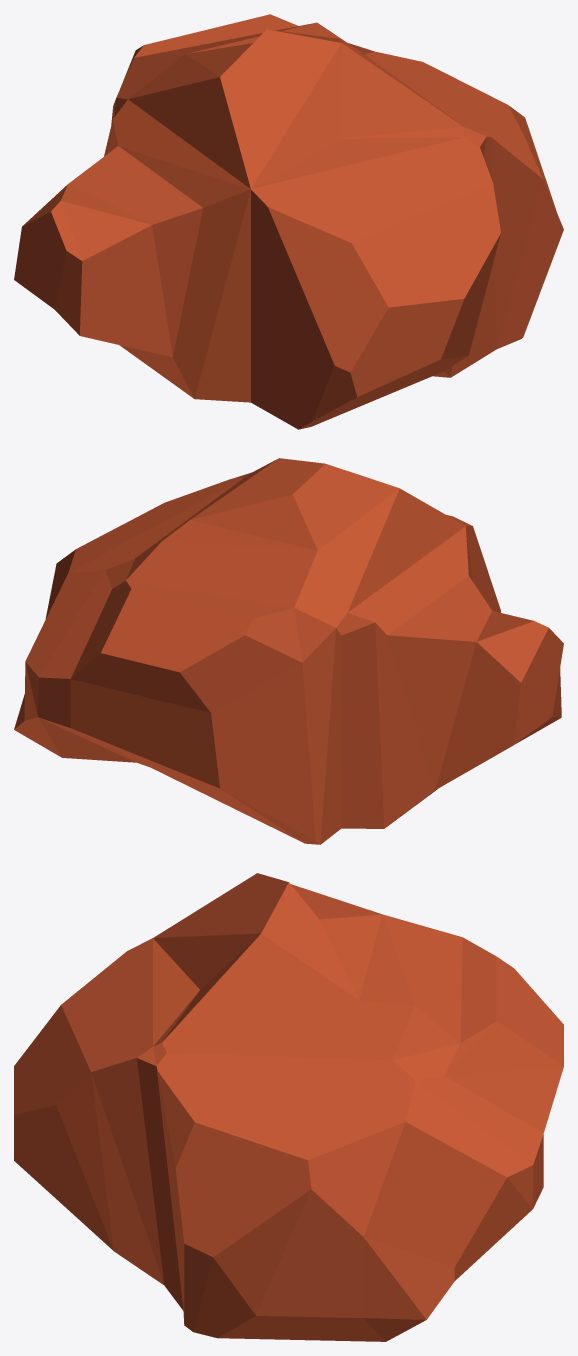
The model's file is Rock_03.fbx.
3 renders of one model, top to bottom at view 1: azimuth 30°, elevation 25°; view 2: azimuth 150°, elevation 25°; view 3: azimuth 270°, elevation 25°, orthographic. The views are drawn at different scales.
Visible parts, largest first — view 1: Rock_03; view 2: Rock_03; view 3: Rock_03.
Boxes of the visible parts, x1,y1,x2,y2 form: Rock_03: [14, 14, 563, 429]; Rock_03: [14, 458, 563, 844]; Rock_03: [14, 873, 563, 1341].
Size of the model in its own units: 509 by 340 by 469.
Materials: 1 (1 with a texture image).
